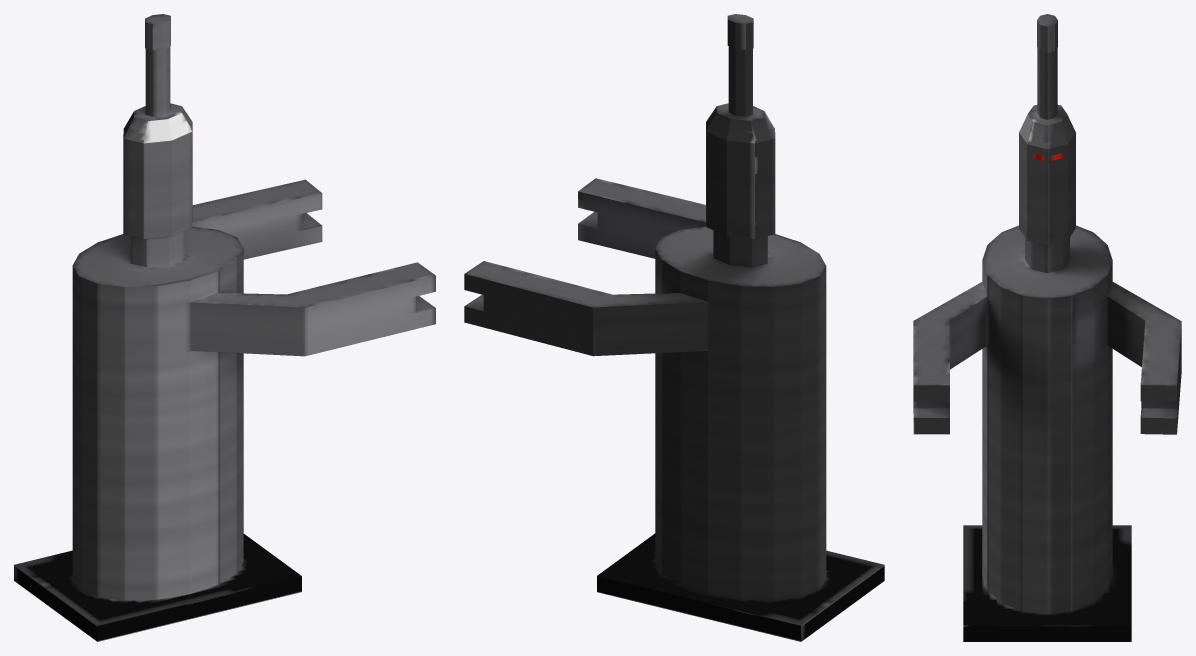
Rendered from robot.fbx.
The picture shows the model from 3 angles, left to right: view 1: azimuth 30°, elevation 25°; view 2: azimuth 150°, elevation 25°; view 3: azimuth 270°, elevation 25°; orthographic projection.
Visible parts, largest first — view 1: Cube; view 2: Cube; view 3: Cube.
Part boxes in pixels (x1,y1,x2,y2): Cube: (14, 14, 435, 641); Cube: (464, 14, 884, 641); Cube: (913, 14, 1181, 641).
Size of the model in its own units: 435 by 751 by 320.
